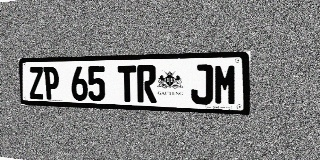5: (88, 66, 106, 101)
6: (71, 66, 88, 101)
J: (191, 64, 213, 105)
M: (214, 64, 237, 106)
P: (43, 67, 60, 100)
R: (137, 65, 157, 103)
T: (118, 65, 137, 102)
Z: (28, 67, 44, 99)
